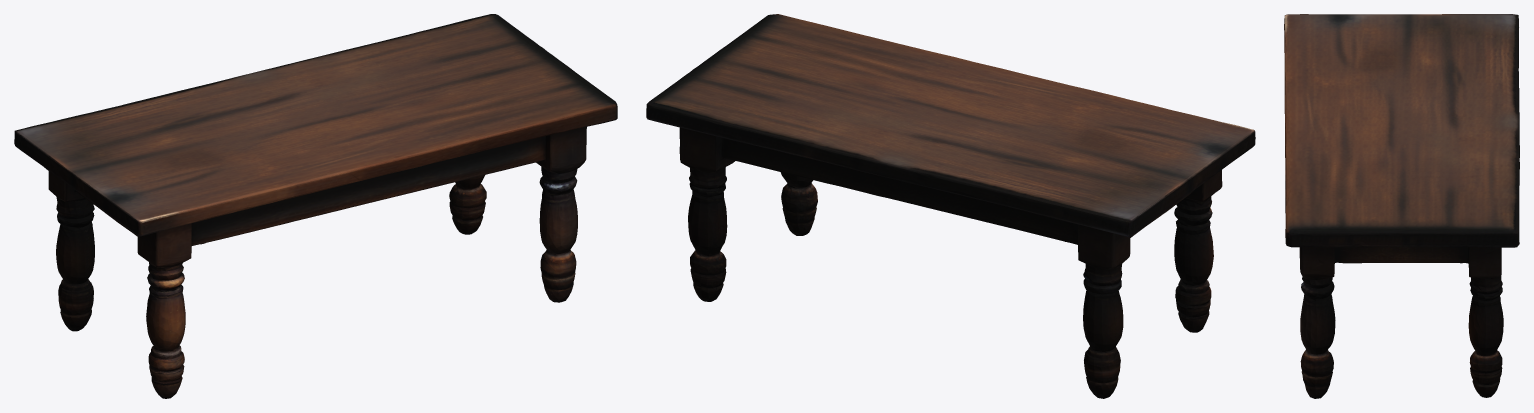
3 renders of one model, left to right at view 1: azimuth 30°, elevation 25°; view 2: azimuth 150°, elevation 25°; view 3: azimuth 270°, elevation 25°, orthographic. The views are drawn at different scales.
Parts seen in each view (by area): view 1: world; view 2: world; view 3: world.
Boxes of the visible parts, <box> form: world: <box>14,14,617,398</box>; world: <box>646,14,1255,398</box>; world: <box>1284,14,1519,398</box>.
Bounding box in the file's own units: 1 × 0.3954 × 0.4547.
Materials: 1 (1 with a texture image).
